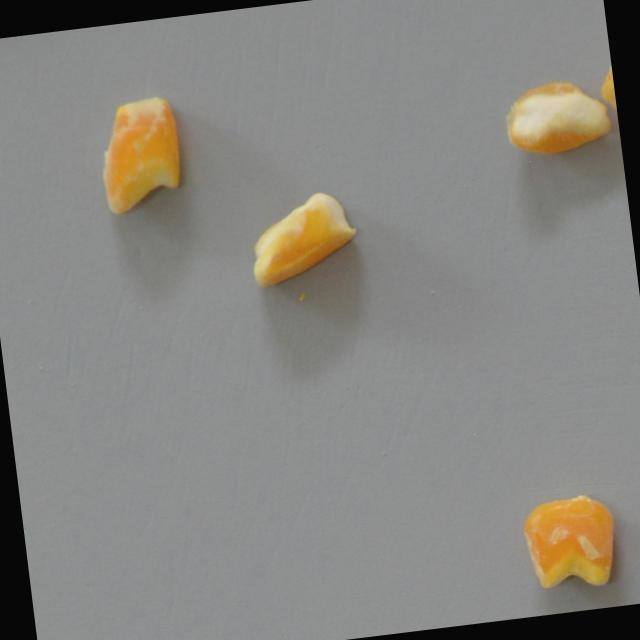dañado: (90, 91, 189, 217), (589, 12, 620, 138)
pelicula: (507, 483, 629, 599), (236, 186, 357, 291), (498, 74, 615, 161)
